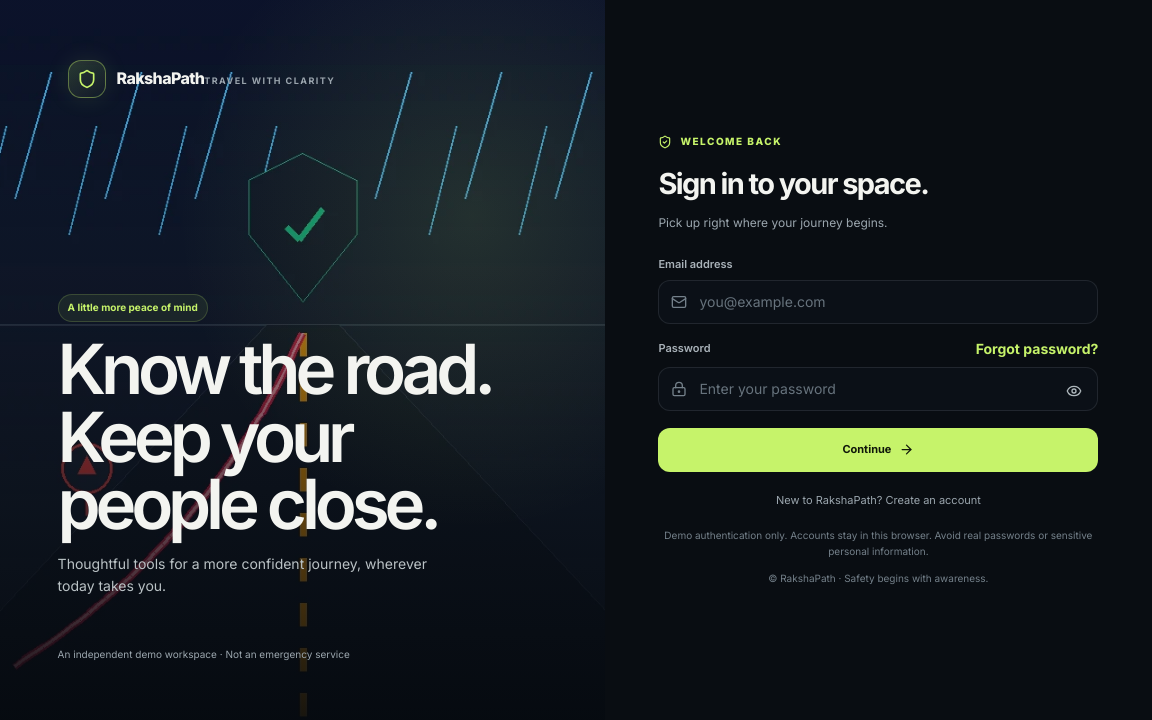
Test: Phase 1: Component Validations & Flow Integration › renders login screen when logged out and resets on logout
Expected: the heading "Sign in to your space." is shown, left=658, top=166, right=928, bottom=201
Expected: the field labelled "Email address" is shown, left=658, top=280, right=1098, bottom=324
// Switch to Register
Click the link "Create an account".
click(933, 500)  # box left=886, top=493, right=981, bottom=507
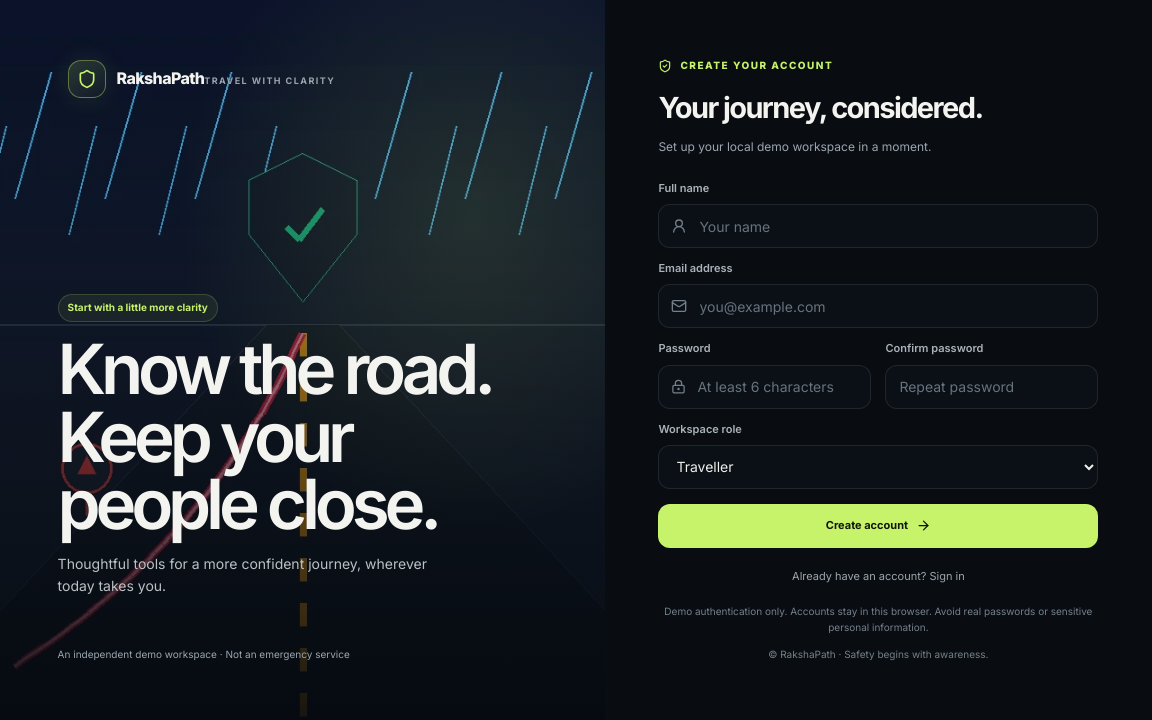
Now the heading "Your journey, considered." is shown, box left=658, top=90, right=982, bottom=125
// Switch back to Login
Click the link "Sign in".
click(947, 576)  # box left=930, top=569, right=965, bottom=583
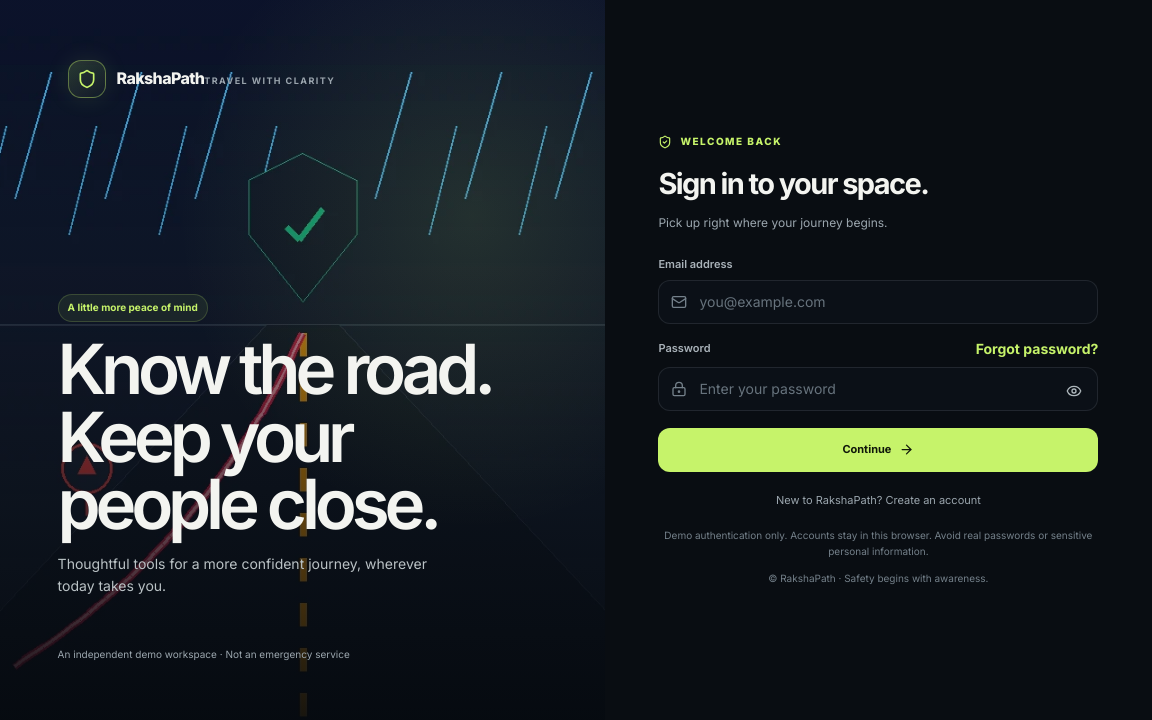
Now the heading "Sign in to your space." is shown, box left=658, top=166, right=928, bottom=201
